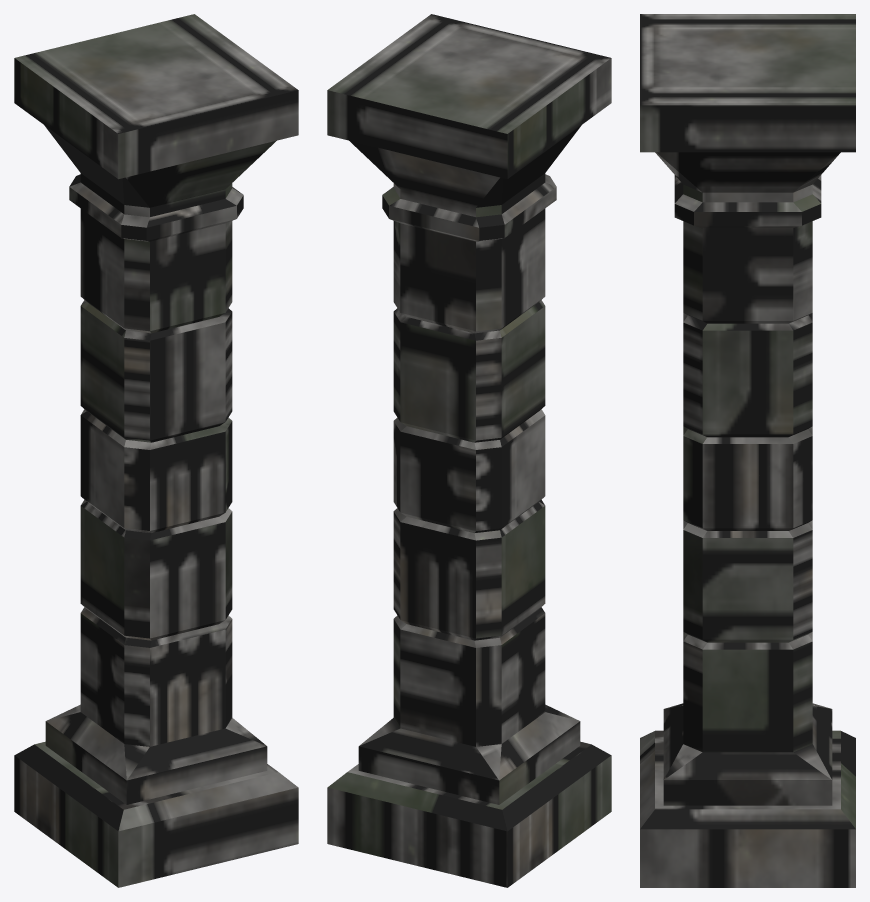
File: pilier.fbx
3 renders of one model, left to right at view 1: azimuth 30°, elevation 25°; view 2: azimuth 150°, elevation 25°; view 3: azimuth 270°, elevation 25°, orthographic. The views are drawn at different scales.
Parts seen in each view (by area): view 1: pilier; view 2: pilier; view 3: pilier.
Part boxes in pixels (x1,y1,x2,y2): pilier: (14,14,298,887); pilier: (327,14,611,887); pilier: (640,14,855,887).
Bounding box in the file's own units: 1 × 4 × 1.
1 material, 1 textured.
